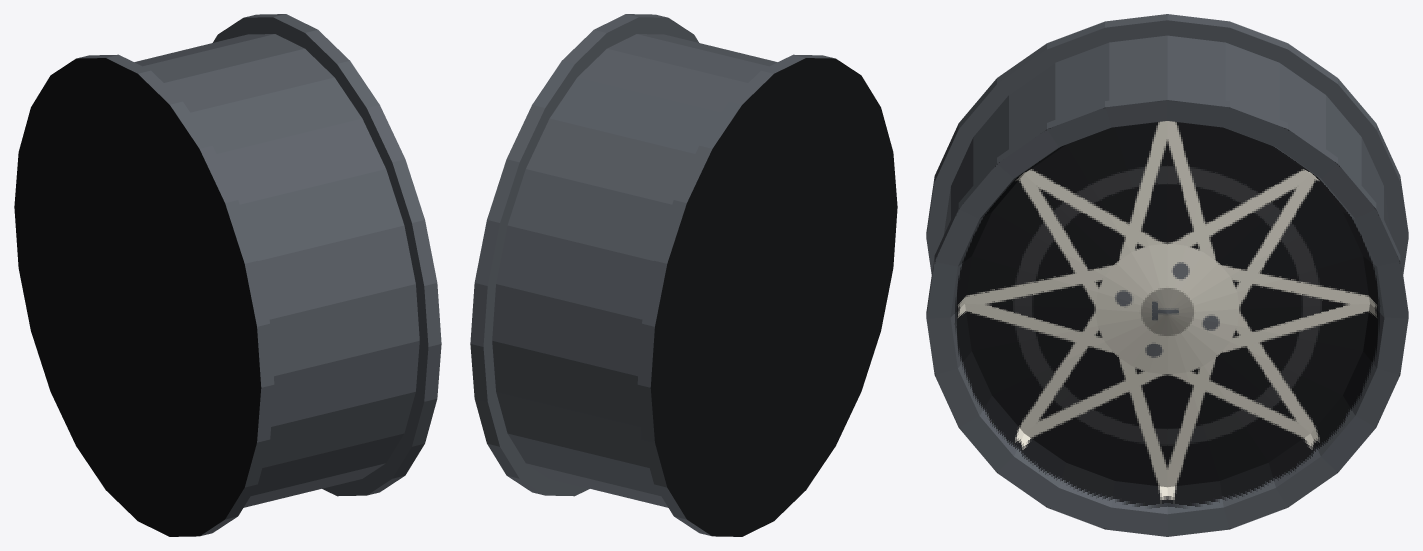
File: tauari_malha_16.glb
3 views of the same model, side by side, from view 1: azimuth 30°, elevation 25°; view 2: azimuth 150°, elevation 25°; view 3: azimuth 270°, elevation 25° (orthographic). The views are drawn at different scales.
Parts seen in each view (by area): view 1: tauari_malha_16; view 2: tauari_malha_16; view 3: tauari_malha_16.
Boxes of the visible parts, x1,y1,x2,y2 form: tauari_malha_16: [14, 14, 441, 536]; tauari_malha_16: [470, 14, 897, 536]; tauari_malha_16: [926, 14, 1408, 536].
Size of the model in its own units: 0.192 by 0.4552 by 0.4552.
Materials: 1 (1 with a texture image).
